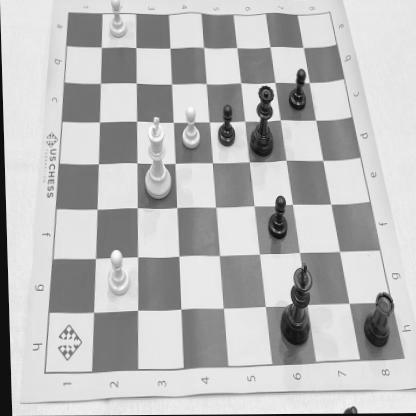black-king: (274, 259, 314, 352)
black-pawn: (261, 190, 290, 245), (284, 64, 310, 116), (214, 102, 238, 152)
black-queen: (244, 82, 277, 163)
black-rook: (356, 287, 395, 352)
white-king: (137, 115, 175, 202)
white-pawn: (100, 245, 132, 298), (176, 102, 202, 152), (102, 0, 132, 41)
